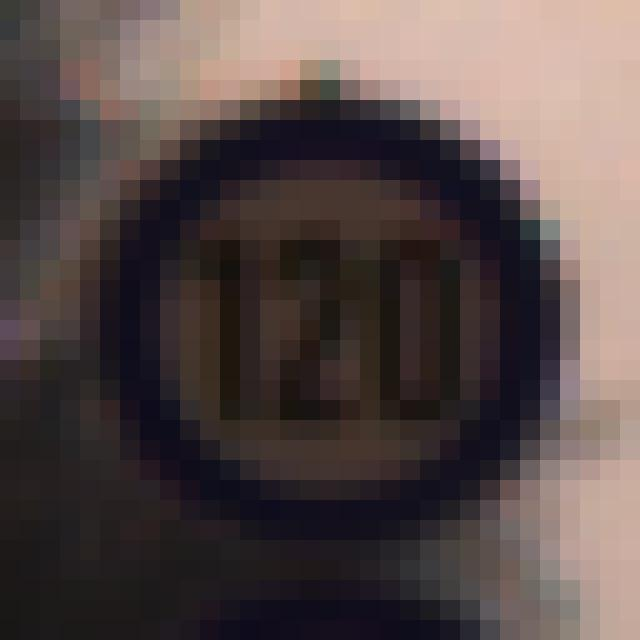SPEED LIMIT 120: (93, 104, 566, 526)
